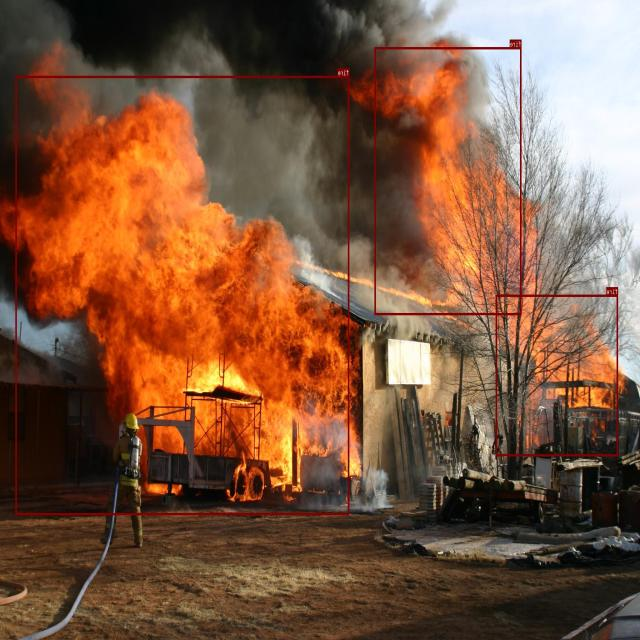fire: (16, 76, 349, 514), (375, 47, 522, 315), (496, 294, 618, 456)
